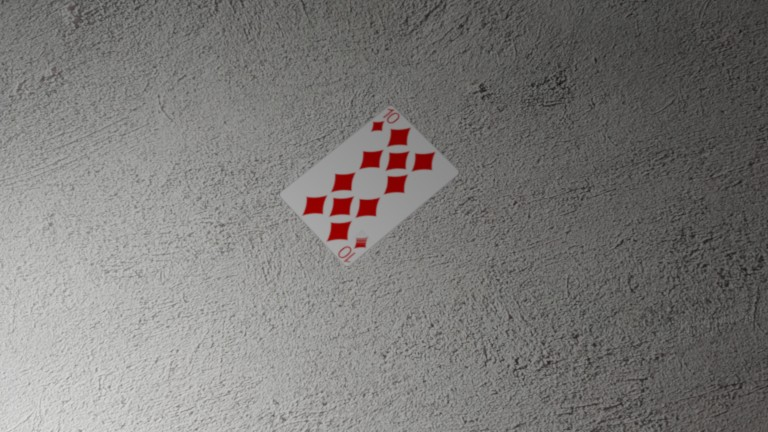10_of_diamonds: (134, 92, 150, 106), (146, 42, 161, 56)
